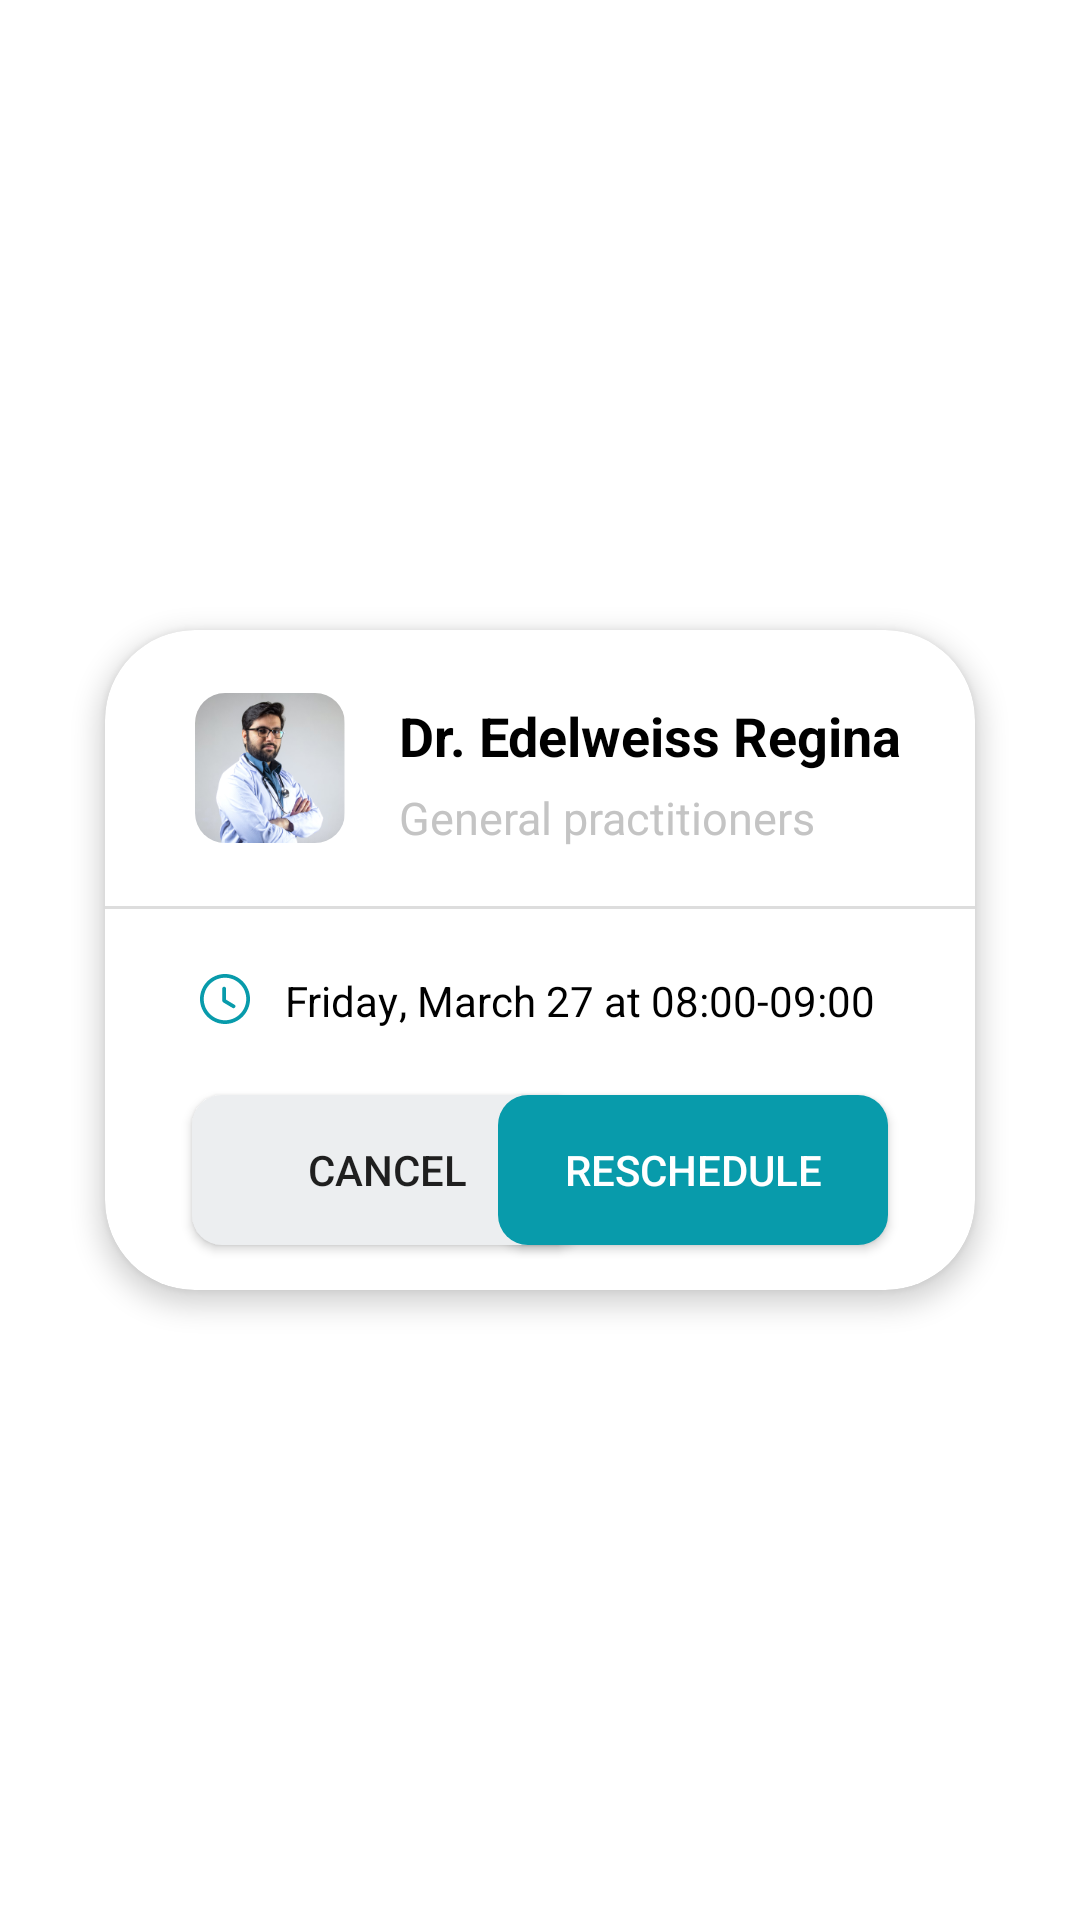

Named icons in this screenshot (1080×1920) and their bounding boxes, (x1, y1, x2, y2):
doctor: (195, 693, 345, 843)
time circle: (200, 974, 250, 1024)
